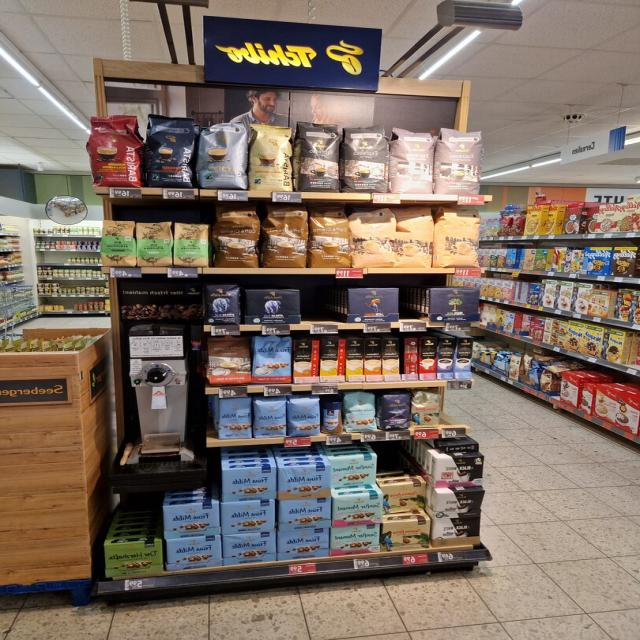AB Bohne: (204, 282, 241, 325)
AB Gemahlen: (244, 288, 302, 325)
Athiopien Bohne: (100, 219, 134, 268)
Athiopien Gemahlen: (172, 221, 210, 267), (136, 220, 173, 266)
BM Gemahlen: (428, 287, 481, 322)
BW Gemahlen: (433, 454, 485, 489), (434, 488, 485, 519), (432, 517, 481, 548)
Barista CB: (248, 122, 294, 192)
Barista CC: (197, 119, 247, 189)
Barista Espresso: (144, 114, 198, 189)
Barista Kolumbien: (85, 112, 141, 186)
C Fino Bohne: (378, 390, 412, 432)
CC Mild: (435, 207, 483, 268), (351, 208, 397, 268), (396, 205, 434, 268)
CC Vollmundig: (208, 336, 250, 385)
CC Vollmundig 36 Pads: (260, 203, 308, 268), (212, 203, 260, 267), (310, 206, 350, 268)
Colombia BB Bohne: (411, 388, 441, 430)
Colombia BB Gemahlen: (381, 517, 432, 553), (384, 480, 427, 515)
Empty Shelf: (301, 286, 346, 322), (442, 390, 469, 428), (400, 288, 428, 320)
Espresso Aromatisch: (435, 126, 483, 194), (389, 127, 434, 194)
Espresso Kraftig: (341, 124, 388, 194), (295, 121, 340, 193)
FM 36 Pads: (252, 336, 292, 384)
FM Bohne: (216, 396, 252, 440), (254, 398, 288, 440), (288, 396, 322, 438)
FM Gemahlen: (162, 502, 220, 538), (220, 467, 278, 502), (220, 500, 276, 536), (278, 464, 332, 500), (222, 530, 276, 566), (278, 498, 332, 530), (277, 528, 329, 560)
FM Instant: (321, 400, 344, 436)
Herzhatfe Mundig: (104, 538, 162, 576)
LG Gemahlen: (348, 286, 401, 324)
SM Bohne: (344, 392, 377, 434)
SM Gemahlen: (332, 491, 384, 529), (330, 523, 380, 557), (330, 454, 377, 489)
Simo CCMild: (320, 338, 346, 382)
Simo CCMild bigpack: (346, 338, 363, 382)
Simo CCVollmundig: (293, 339, 319, 384)
Simo CCVollmundig bigpack: (364, 338, 382, 381)
Simo Decaff: (382, 338, 400, 381)
Simo Es Brazil: (420, 338, 438, 380)
Simo Es Kraft: (437, 338, 455, 380)
Simo Es Vanilla: (455, 338, 473, 380)
